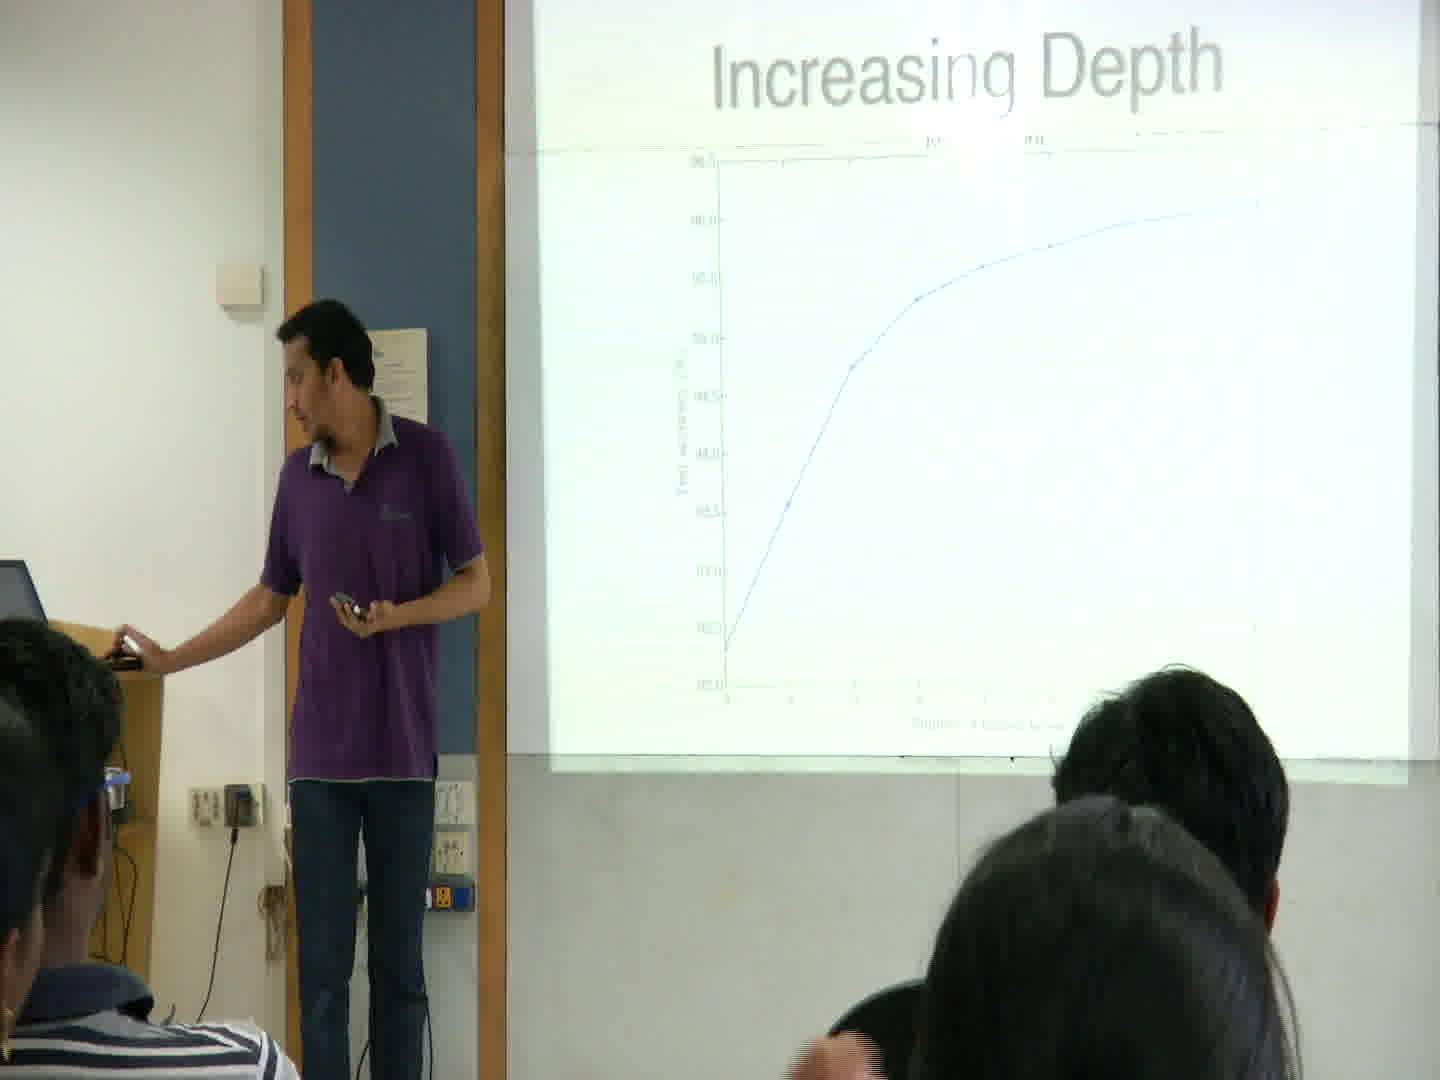slide: (536, 2, 1416, 785)
